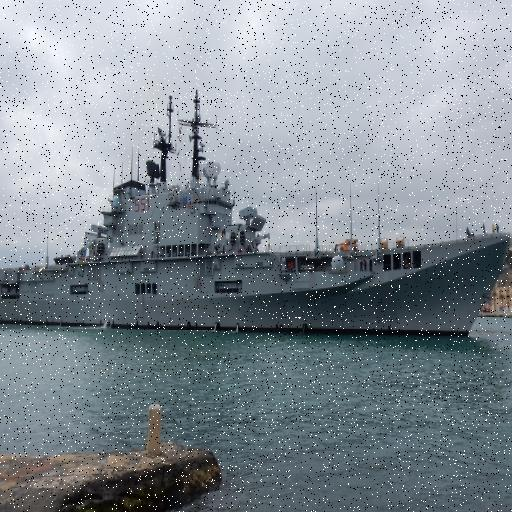Portanaves: (1, 78, 512, 346)
